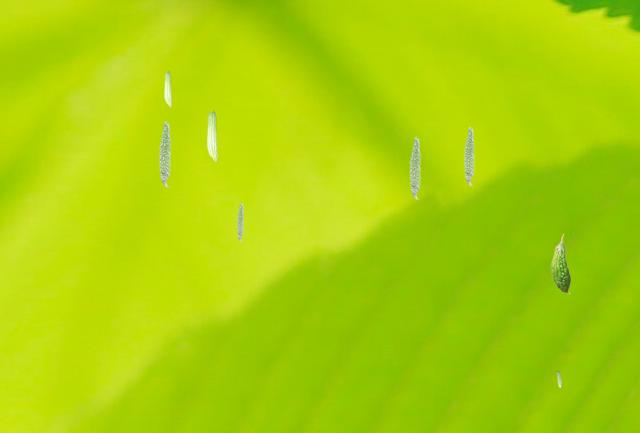ampalaya: (550, 233, 571, 294), (158, 120, 171, 187), (409, 136, 421, 199), (463, 126, 475, 186), (206, 109, 218, 162), (236, 202, 244, 242), (164, 70, 172, 107), (556, 370, 562, 387)
